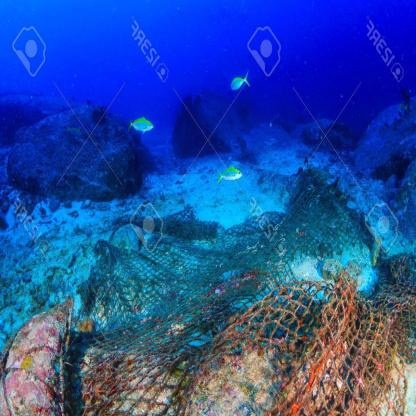net: (72, 214, 412, 416)
